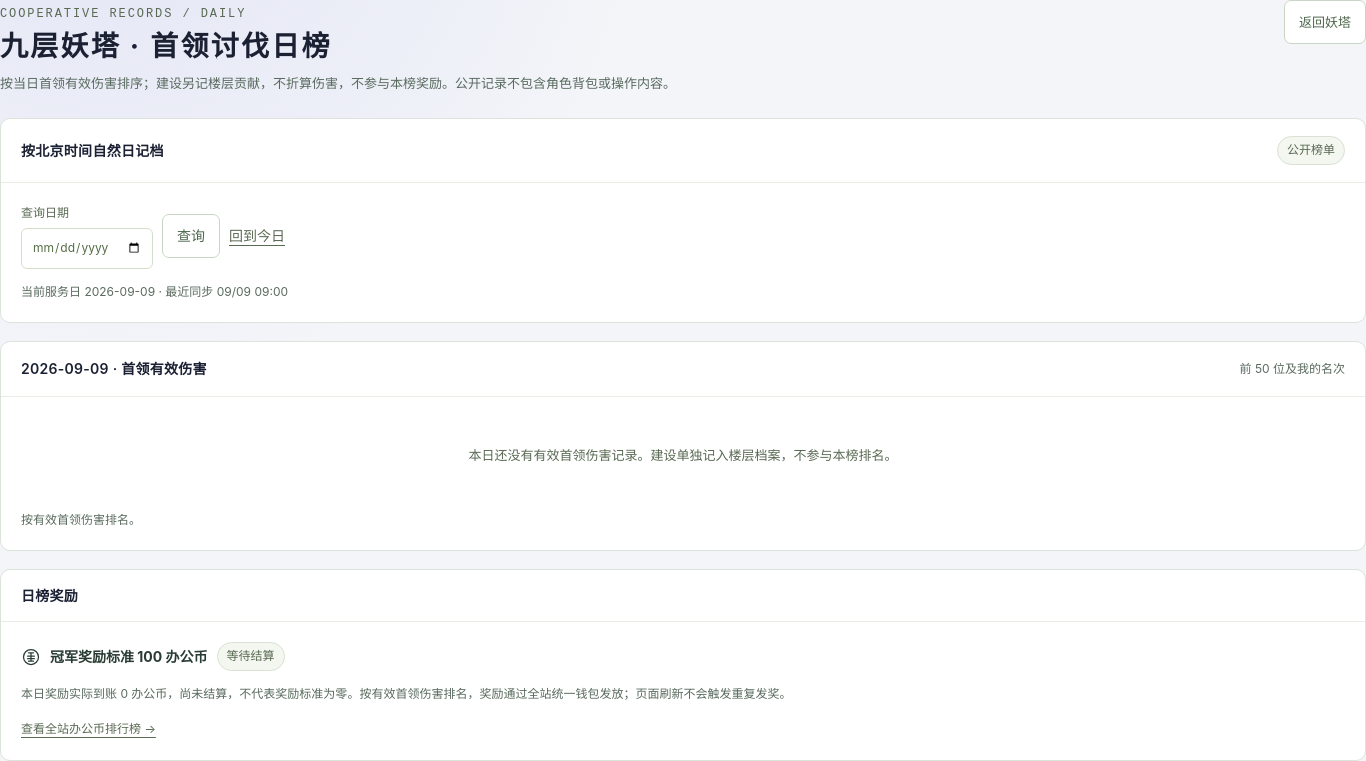
demon tower independent ranking and catalog reads › keeps a failed catalog warning when a parallel ranking read succeeds later
Expected: the text "冠军奖励标准 100 办公币" is shown, left=50, top=645, right=208, bottom=668
Click the button "查询" at (191, 236), box left=162, top=214, right=220, bottom=258
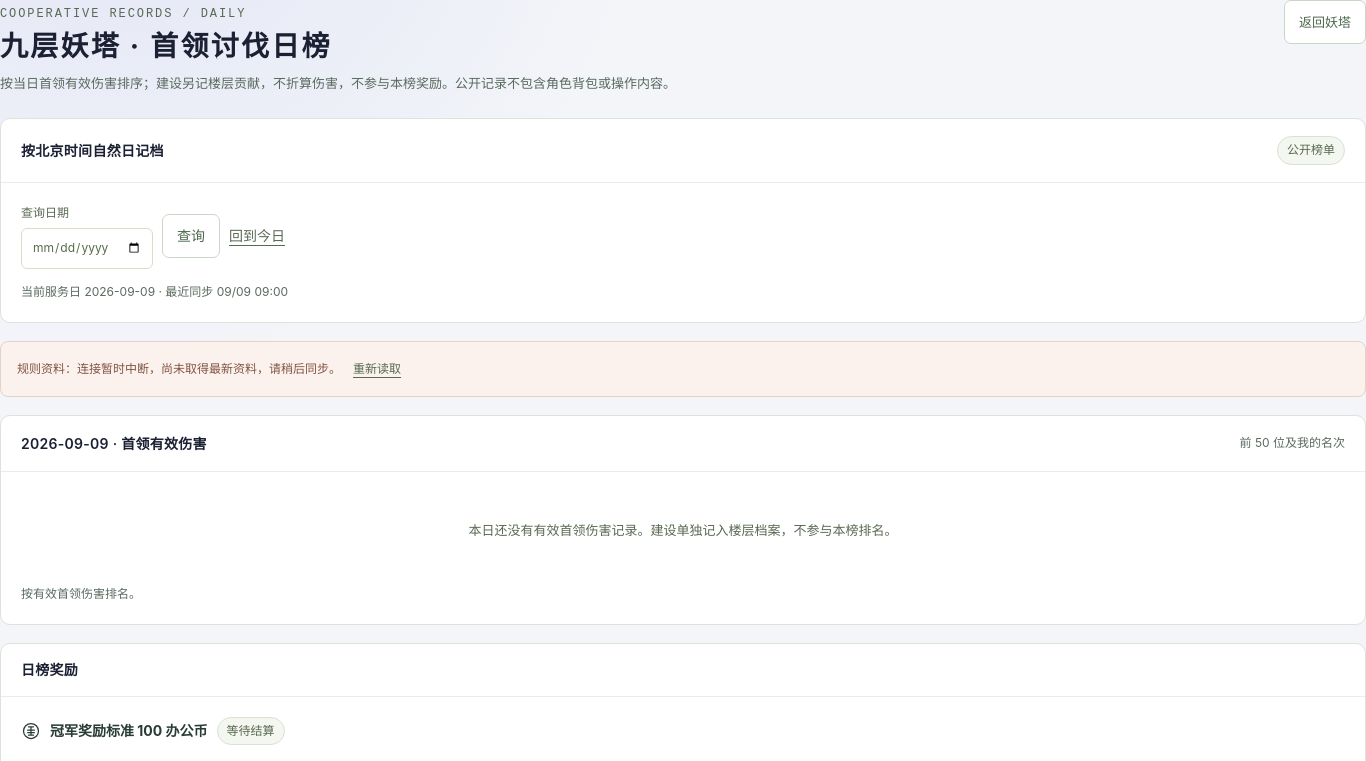
Expected: the message "规则资料：连接暂时中断，尚未取得最新资料，请稍后同步。 重新读取" is shown, left=0, top=341, right=1365, bottom=397
